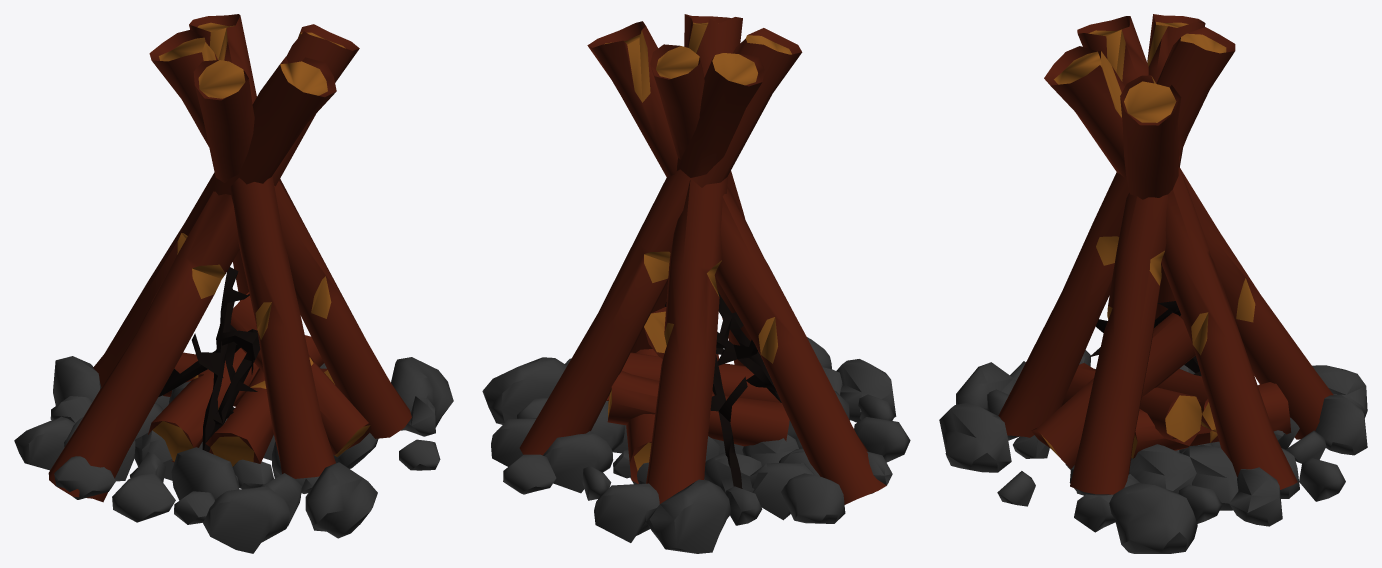
Rendered from BonFire_1.fbx.
3 views of the same model, side by side, from view 1: azimuth 30°, elevation 25°; view 2: azimuth 150°, elevation 25°; view 3: azimuth 270°, elevation 25° (orthographic).
Visible parts, largest first — view 1: Bonfire; view 2: Bonfire; view 3: Bonfire.
Part boxes in pixels (bbox=[...]): Bonfire: bbox=[14, 14, 453, 553]; Bonfire: bbox=[482, 14, 910, 553]; Bonfire: bbox=[939, 14, 1367, 553].
Size of the model in its own units: 3.54 by 3.69 by 3.28.
